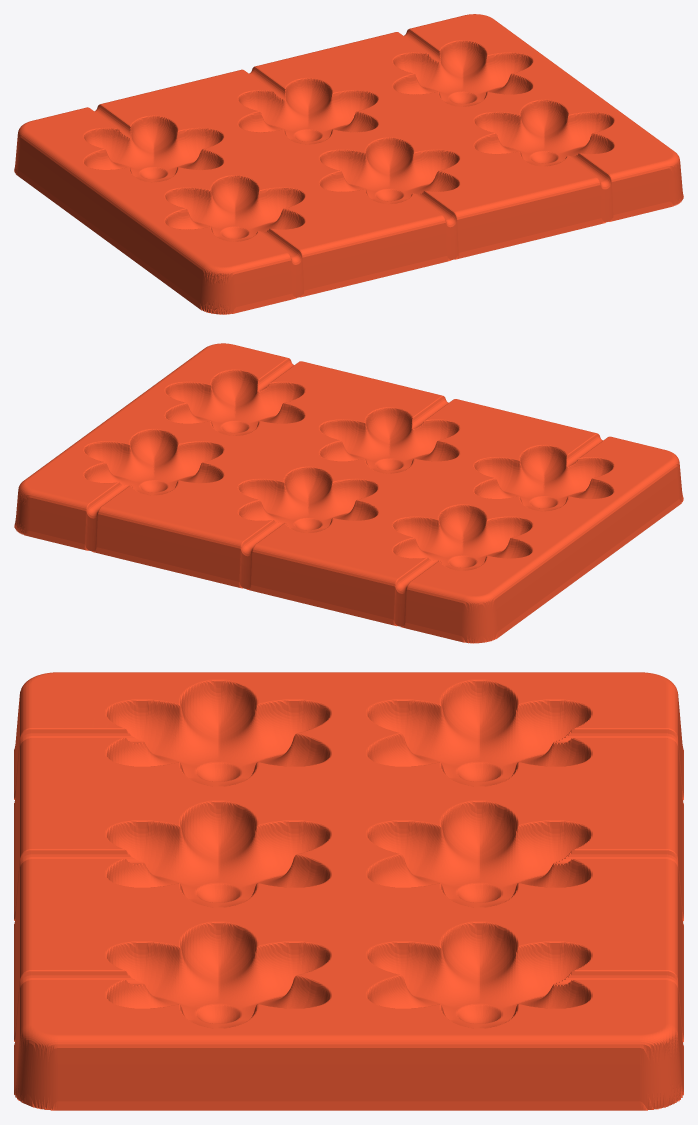
Rendered from mold.glb.
3 renders of one model, top to bottom at view 1: azimuth 30°, elevation 25°; view 2: azimuth 150°, elevation 25°; view 3: azimuth 270°, elevation 25°, orthographic. The views are drawn at different scales.
Parts seen in each view (by area): view 1: geometry_0; view 2: geometry_0; view 3: geometry_0.
Boxes of the visible parts, x1,y1,x2,y2 form: geometry_0: [14, 14, 683, 314]; geometry_0: [14, 343, 683, 643]; geometry_0: [14, 672, 683, 1110].
Bounding box in the file's own units: 0.1824 × 0.0155 × 0.1373.
